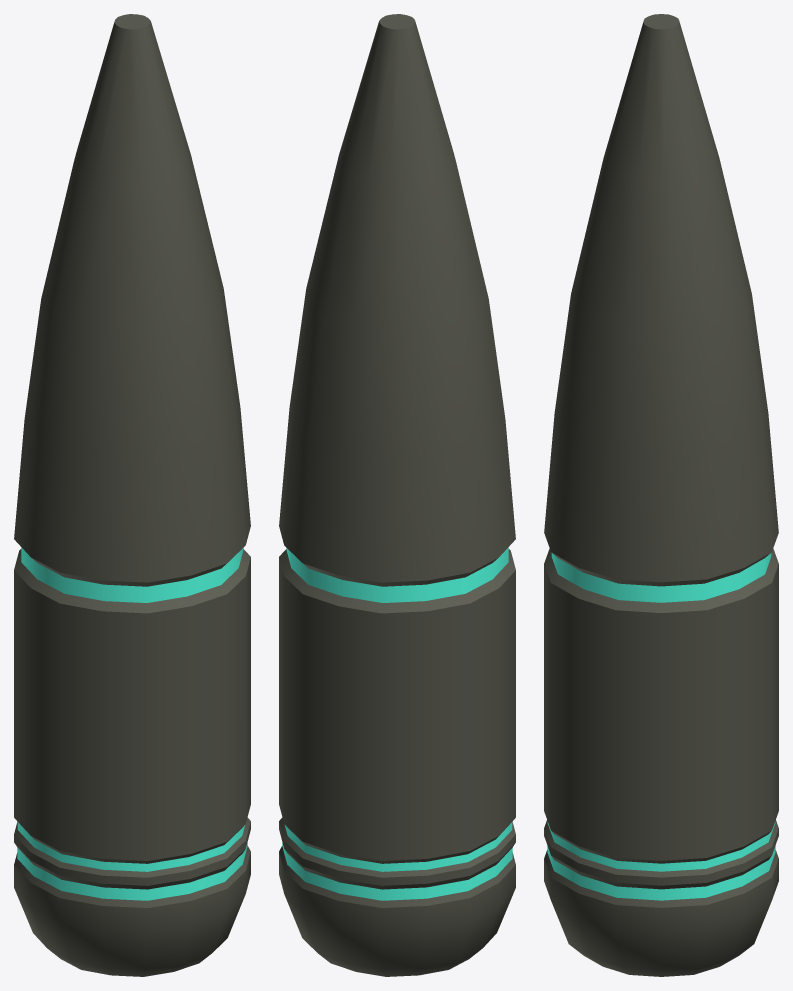
The model's file is zidan01.fbx.
3 renders of one model, left to right at view 1: azimuth 30°, elevation 25°; view 2: azimuth 150°, elevation 25°; view 3: azimuth 270°, elevation 25°, orthographic.
Parts seen in each view (by area): view 1: 子弹; view 2: 子弹; view 3: 子弹.
Part boxes in pixels (x1=…): 子弹: x1=14, y1=14, x2=250, y2=976; 子弹: x1=279, y1=14, x2=515, y2=976; 子弹: x1=544, y1=14, x2=778, y2=976.
Size of the model in its own units: 0.4625 by 2 by 0.4625.
